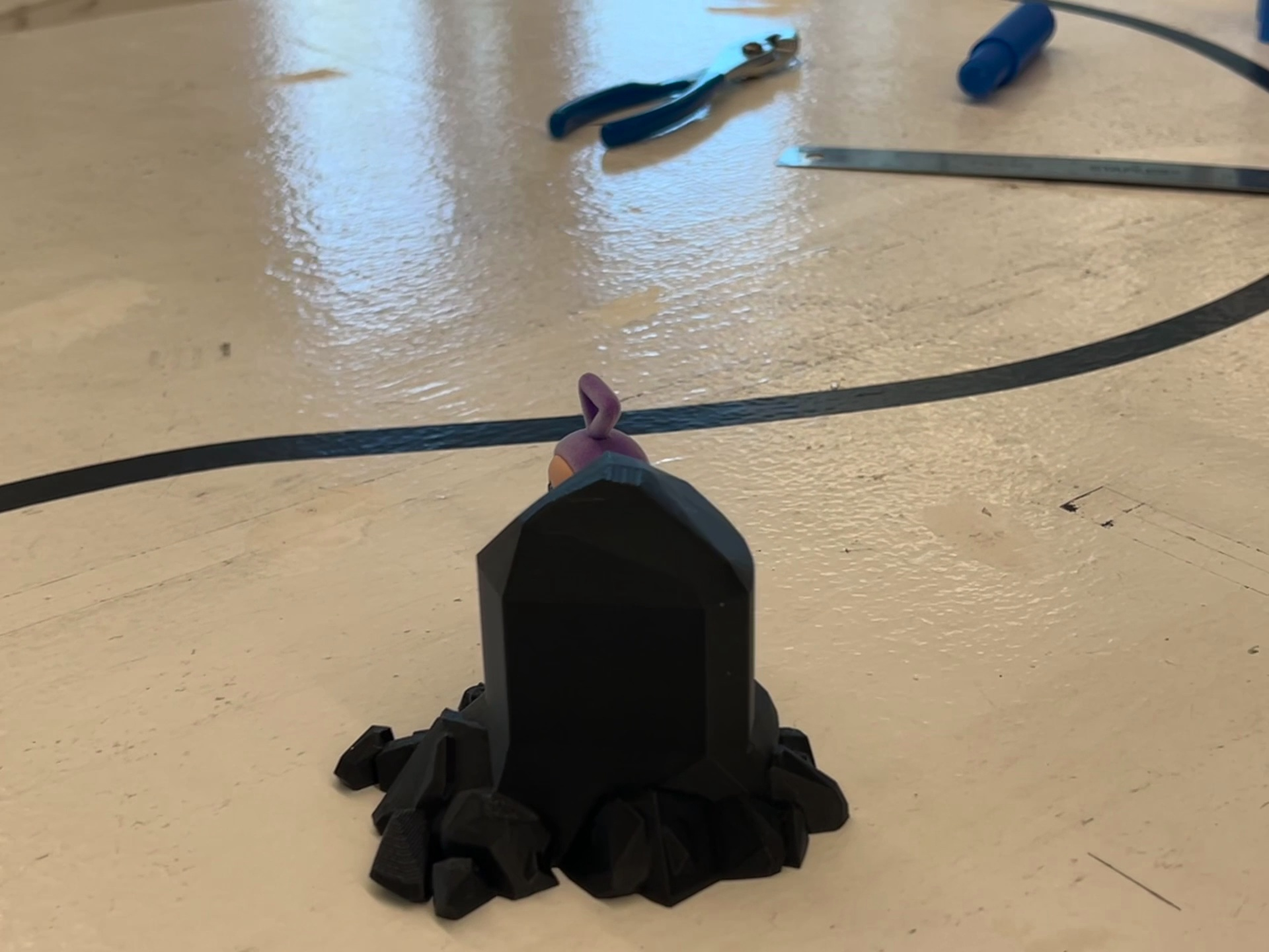teletubby: (549, 373, 648, 489)
